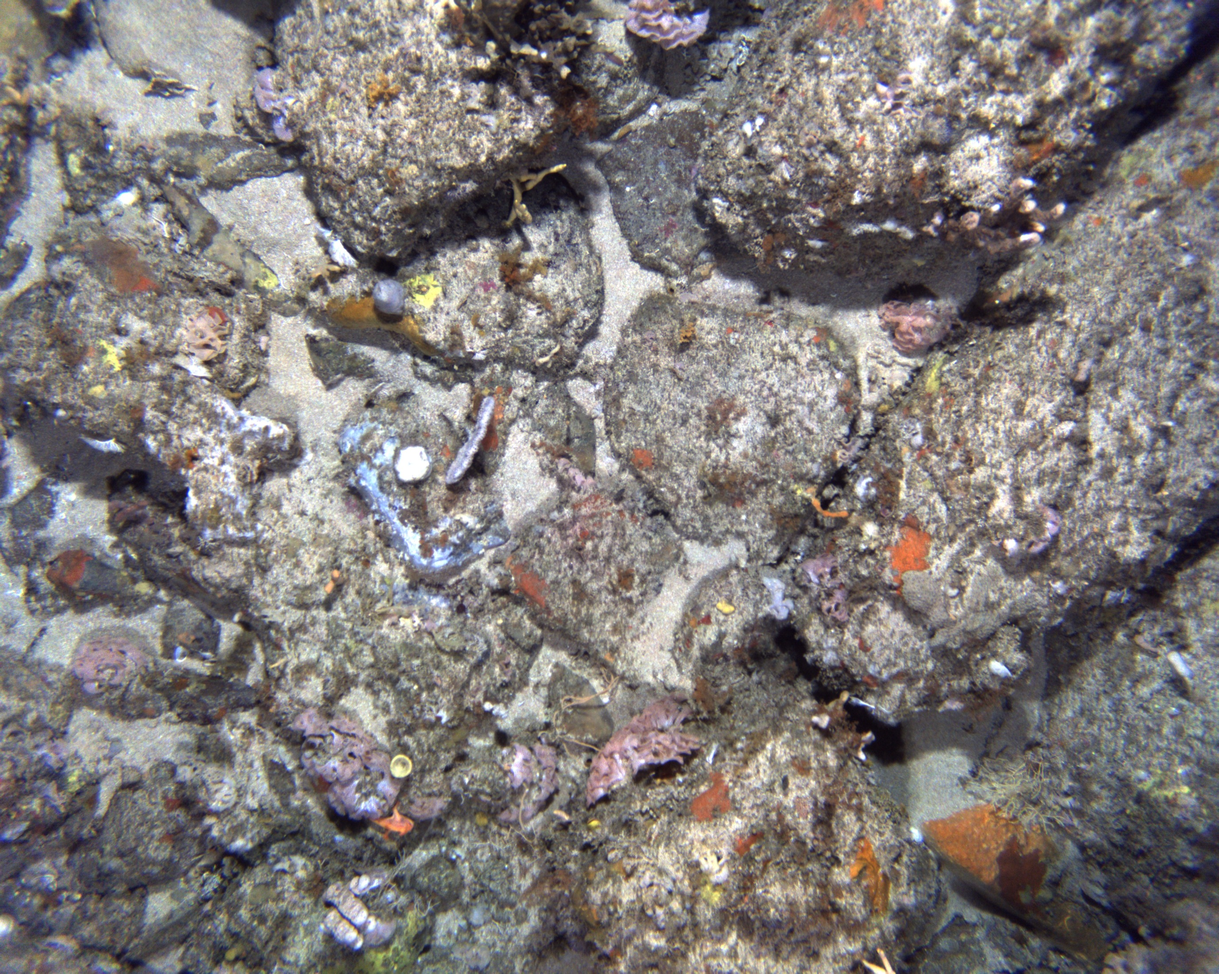Brachionichthyidae: (359, 800, 418, 842)
